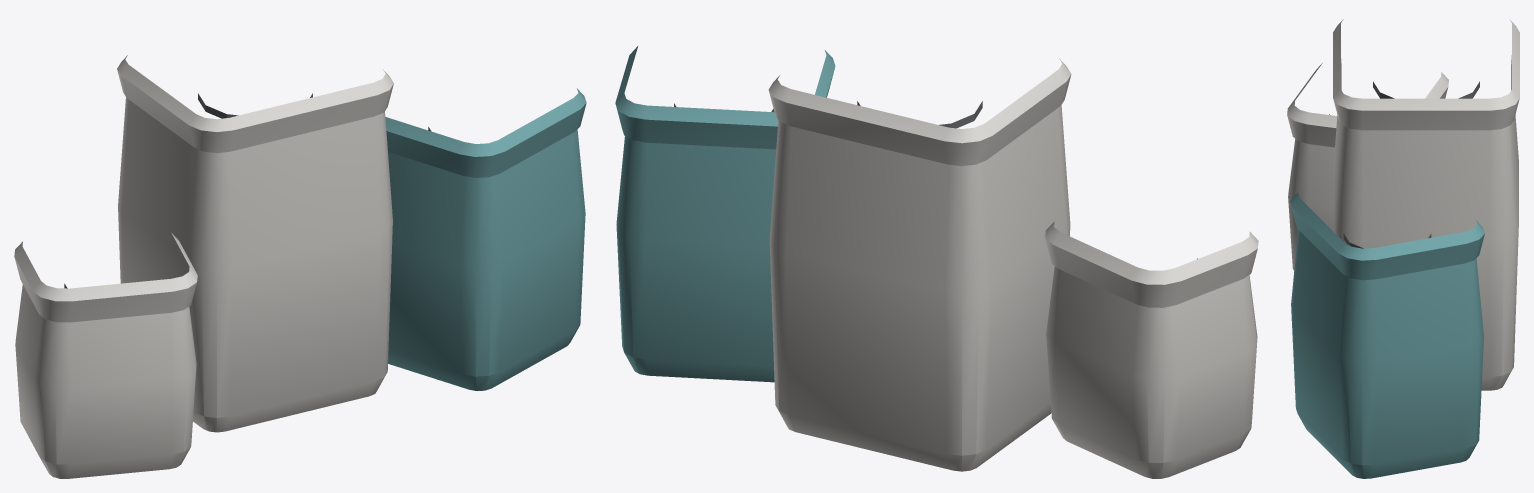
Rendered from hotel-and-resort-operations-laundry-bag-set-f6436a31__25895.glb.
The picture shows the model from 3 angles, left to right: view 1: azimuth 30°, elevation 25°; view 2: azimuth 150°, elevation 25°; view 3: azimuth 270°, elevation 25°; orthographic projection. The views are drawn at different scales.
Visible parts, largest first — view 1: laundry-bag-set; view 2: laundry-bag-set; view 3: laundry-bag-set.
Boxes of the visible parts, bbox=[...] form: laundry-bag-set: bbox=[14, 55, 586, 478]; laundry-bag-set: bbox=[615, 46, 1258, 478]; laundry-bag-set: bbox=[1287, 19, 1519, 478].
Bounding box in the file's own units: 1.23 × 0.67 × 0.4785.
